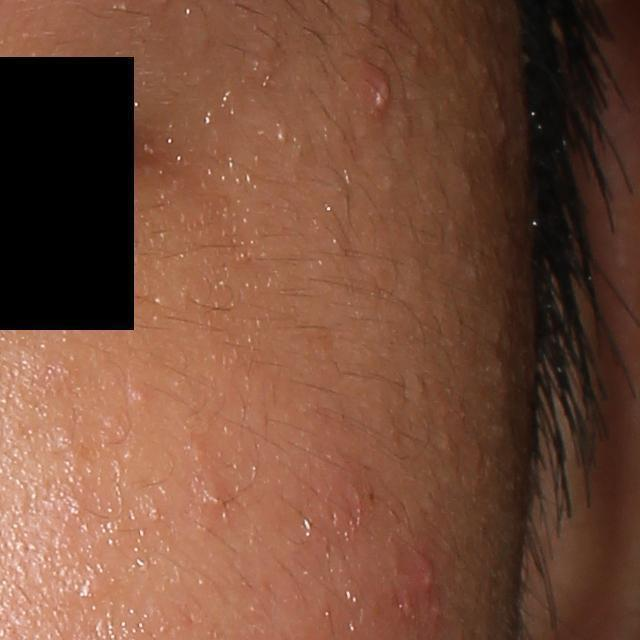comedo: (476, 70, 510, 138), (132, 385, 159, 406)
papule: (417, 555, 439, 597)
